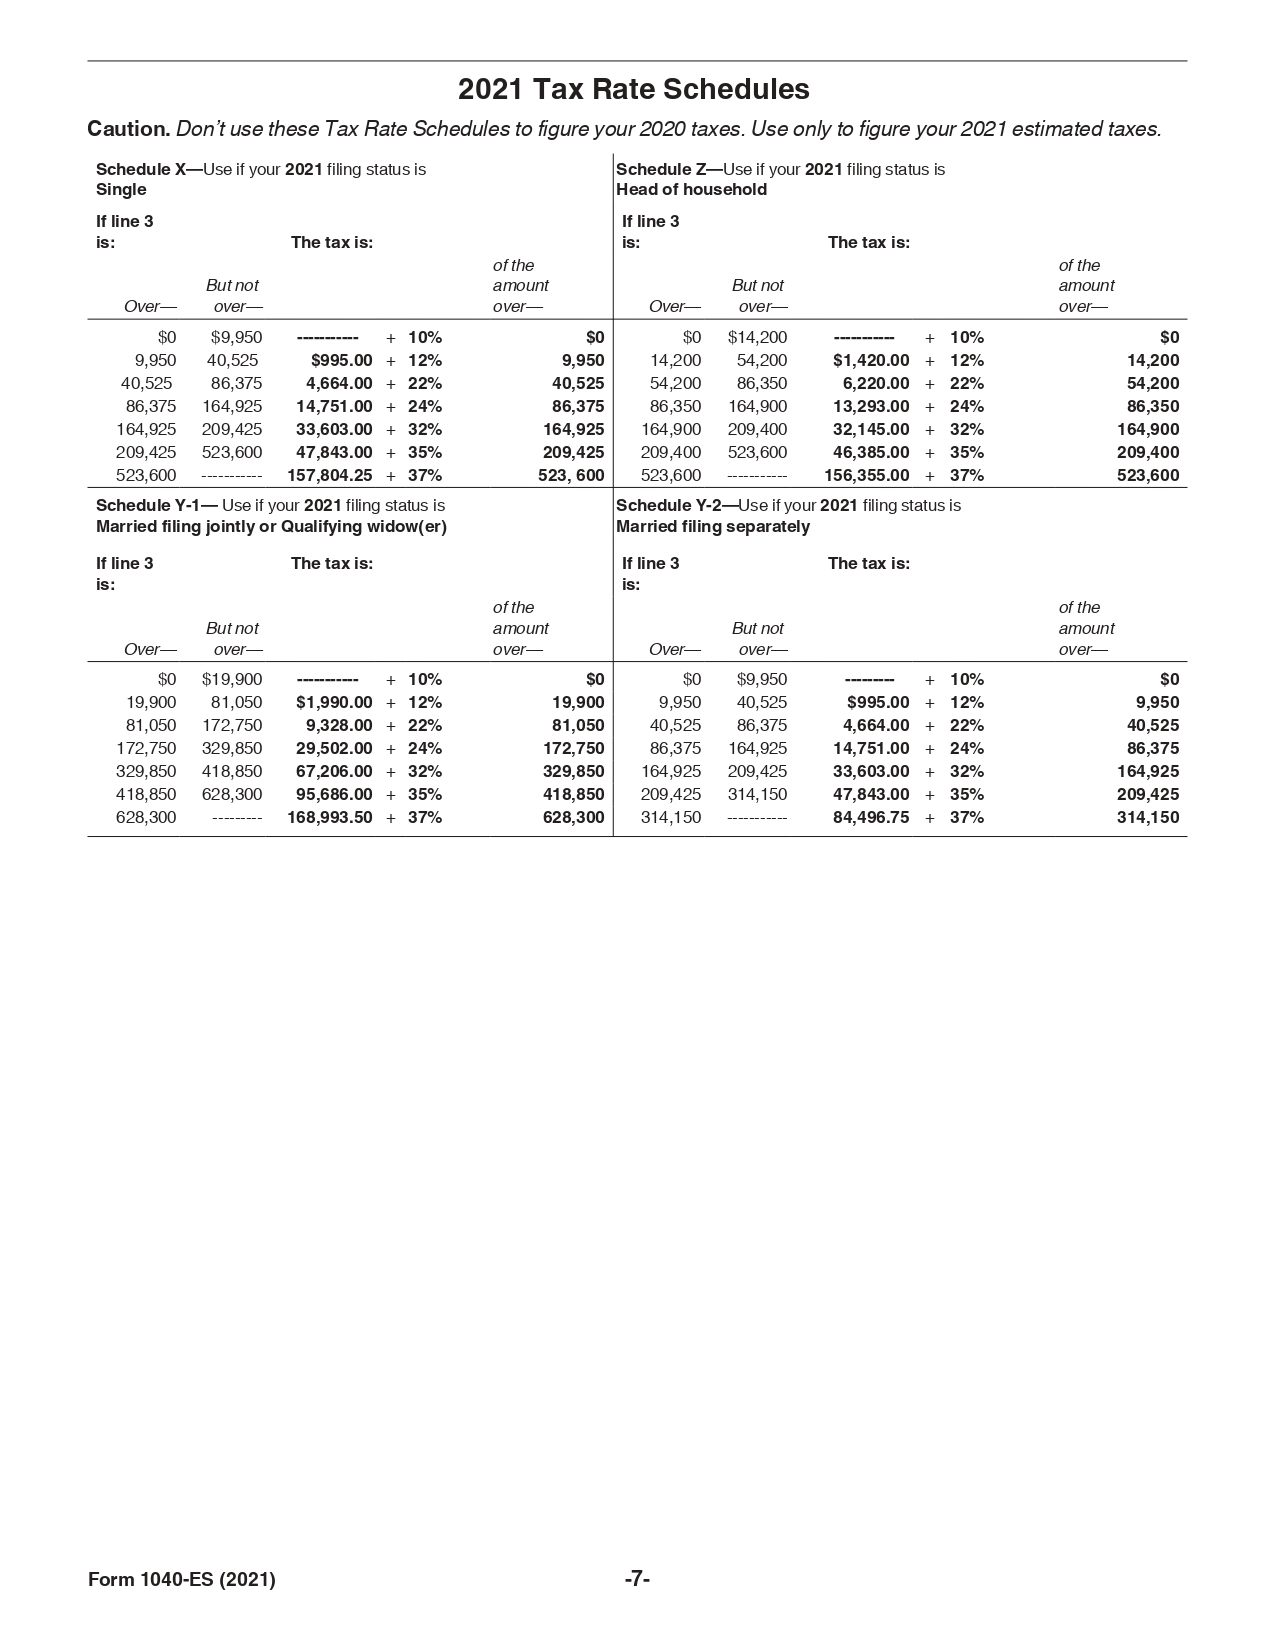table: (621, 599, 1205, 856), (607, 254, 1189, 496), (80, 599, 613, 852), (70, 250, 609, 485)
